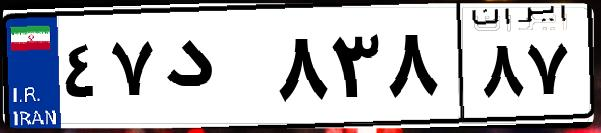3: (330, 28, 385, 110)
4: (57, 26, 110, 100)
7: (525, 38, 570, 115), (110, 28, 158, 98)
8: (270, 28, 330, 110), (385, 28, 445, 110), (475, 38, 525, 113)
د: (158, 20, 270, 120)
